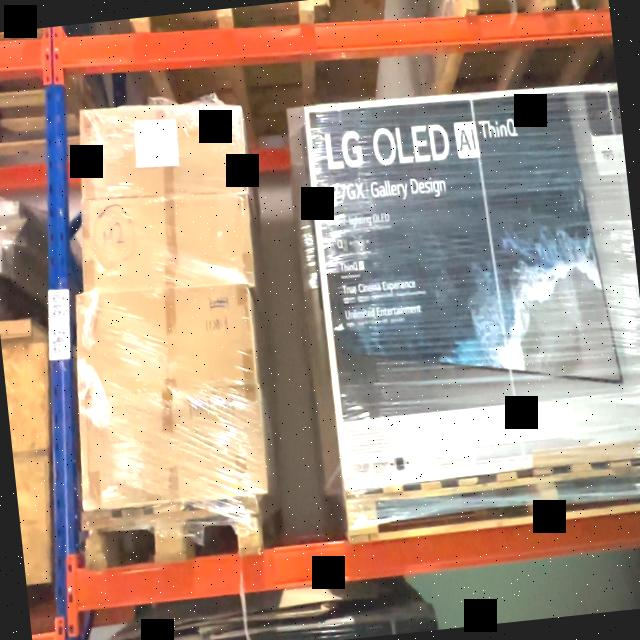box: (77, 387, 268, 509), (76, 282, 256, 402), (81, 195, 255, 292), (80, 104, 247, 203)
